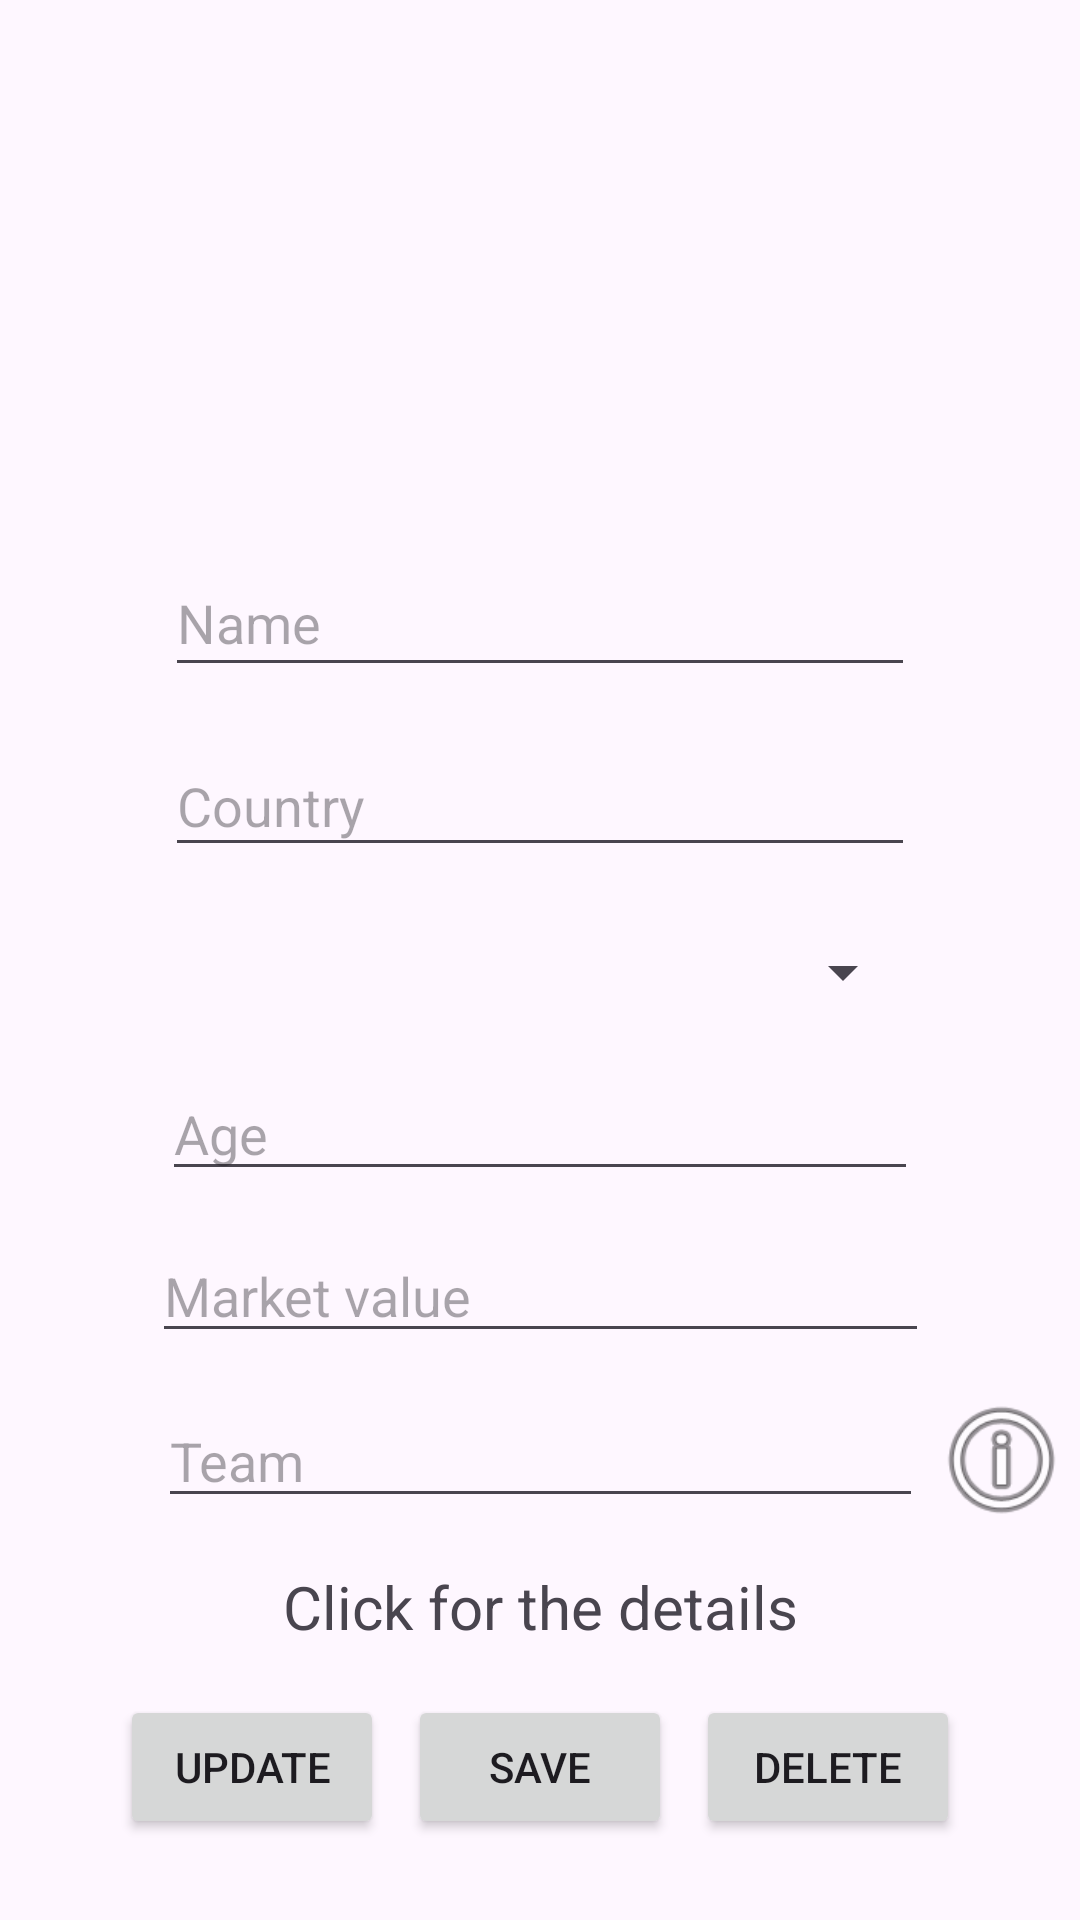

Locate icon controls on the screen. Image size 1080 x 1920, boxes as rect(x1, y1, x2, y2).
info details: rect(948, 1407, 1055, 1513)
